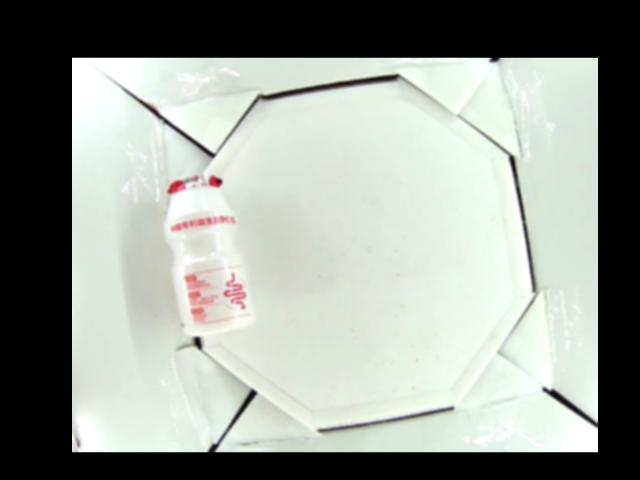Bottle: (164, 170, 254, 340)
